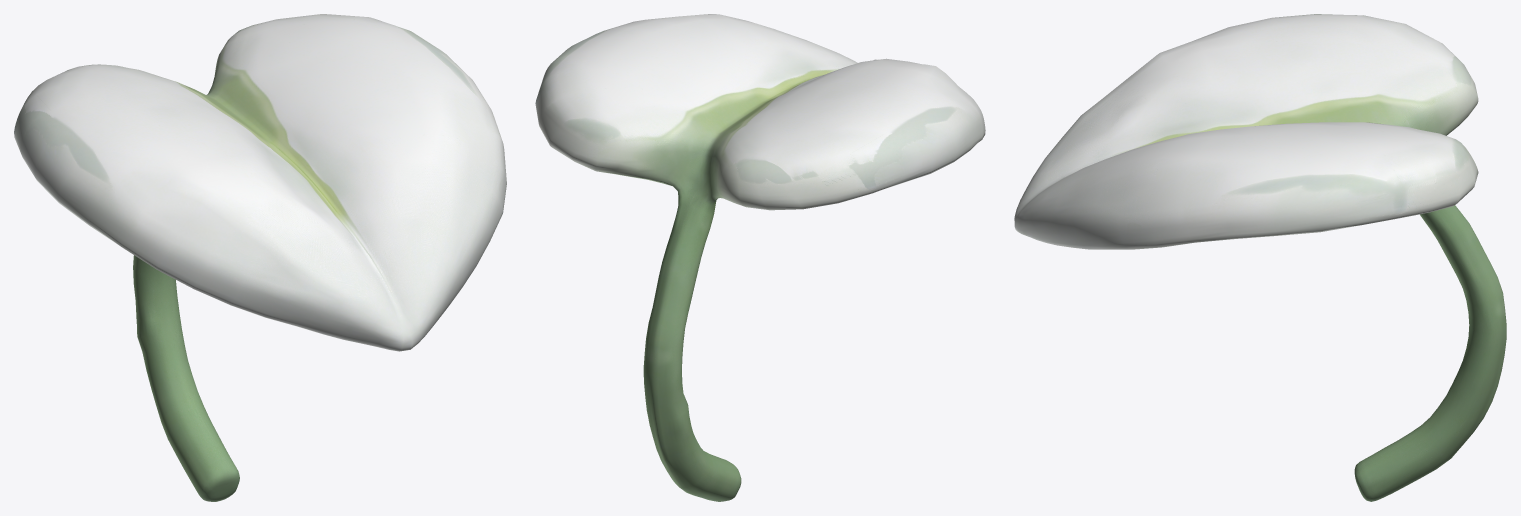
File: pothos_whitegreen_29.glb
3 renders of one model, left to right at view 1: azimuth 30°, elevation 25°; view 2: azimuth 150°, elevation 25°; view 3: azimuth 270°, elevation 25°, orthographic. The views are drawn at different scales.
Size of the model in its own units: 1.82 by 1.85 by 2.
1 material, 1 textured.
